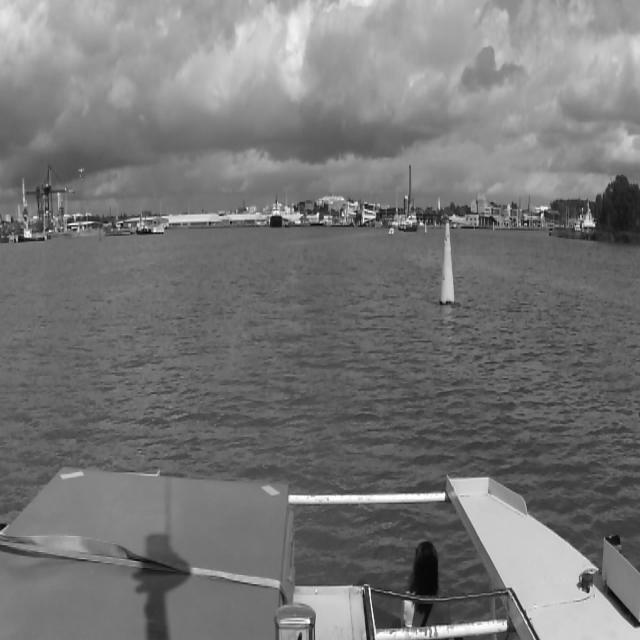buoy: (439, 223, 455, 304), (424, 218, 427, 234)
ship: (270, 192, 282, 228), (397, 213, 419, 231), (389, 228, 395, 235)
